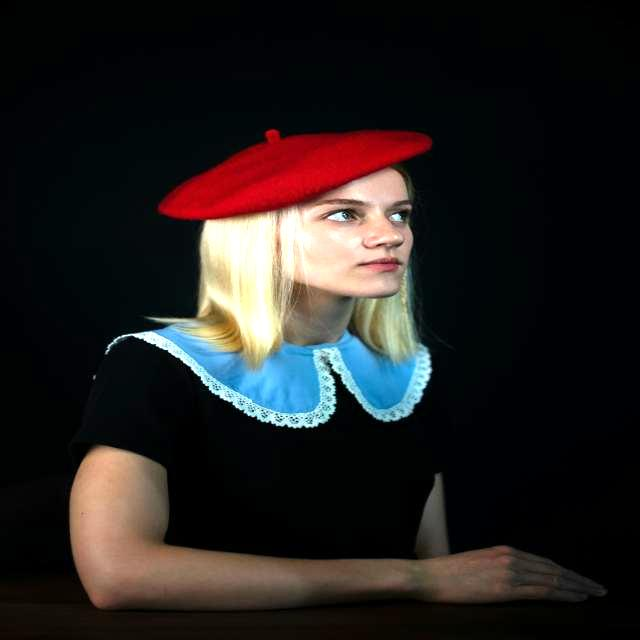no_head_wear: (158, 130, 432, 220)
person: (70, 131, 606, 610)
